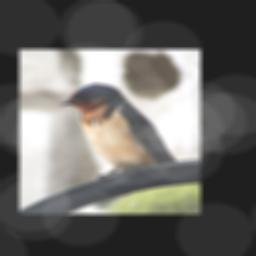Swallow: (58, 82, 179, 183)
